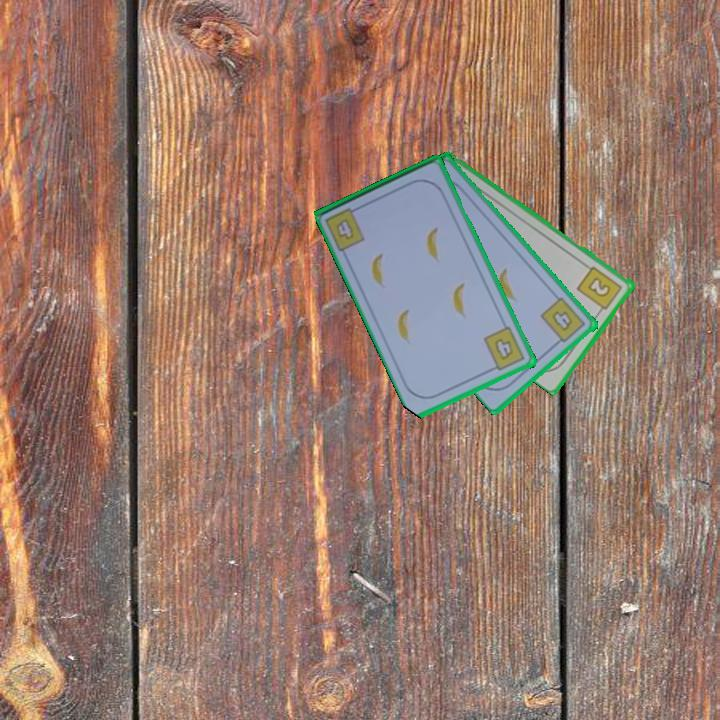2b: (574, 263, 625, 316)
4b: (537, 294, 589, 348), (481, 323, 528, 374), (333, 215, 357, 243)
